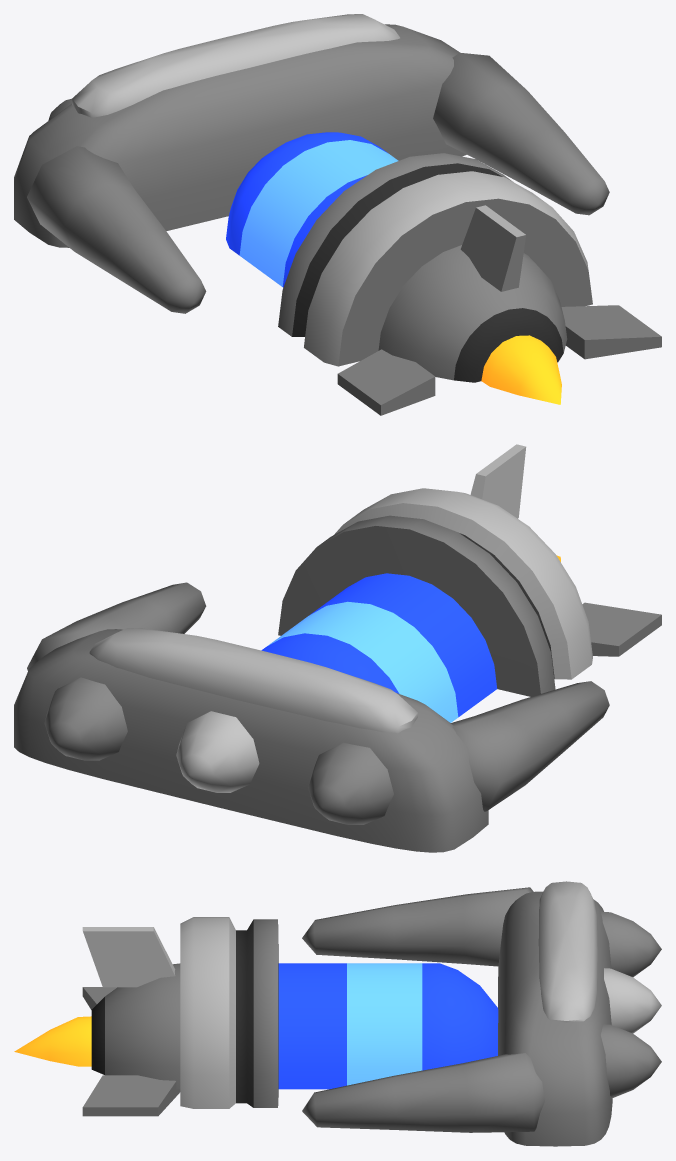
Rendered from shot_buster.glb.
3 renders of one model, top to bottom at view 1: azimuth 30°, elevation 25°; view 2: azimuth 150°, elevation 25°; view 3: azimuth 270°, elevation 25°, orthographic. The views are drawn at different scales.
Visible parts, largest first — view 1: br_tail, br_bar, br_leg, br_leg.001, br_core, br_bar_top, br_fin.001, br_fin, br_flame, br_fin_top; view 2: br_bar, br_tail, br_core, br_bar_top, br_leg, br_prong, br_prong.002, br_prong.001, br_leg.001, br_fin.001, br_fin_top; view 3: br_tail, br_core, br_bar, br_leg.001, br_leg, br_bar_top, br_fin_top, br_fin, br_prong.002, br_prong, br_flame, br_prong.001 (+1 smaller).
Boxes of the visible parts, <box> form: br_tail: <box>278,153,592,382</box>; br_bar: <box>14,24,466,247</box>; br_leg: <box>27,146,206,313</box>; br_leg.001: <box>433,52,609,215</box>; br_core: <box>226,132,398,287</box>; br_bar_top: <box>72,14,399,117</box>; br_fin.001: <box>337,349,435,415</box>; br_fin: <box>561,305,661,359</box>; br_flame: <box>481,335,561,404</box>; br_fin_top: <box>460,205,526,291</box>; br_bar: <box>14,629,488,852</box>; br_tail: <box>278,488,592,696</box>; br_core: <box>261,573,497,722</box>; br_bar_top: <box>89,628,417,733</box>; br_leg: <box>451,681,609,811</box>; br_prong: <box>308,742,393,824</box>; br_prong.002: <box>44,677,127,760</box>; br_prong.001: <box>176,711,259,792</box>; br_leg.001: <box>27,582,206,670</box>; br_fin.001: <box>582,602,661,656</box>; br_fin_top: <box>470,444,526,518</box>; br_tail: <box>91,917,278,1108</box>; br_core: <box>278,963,498,1089</box>; br_bar: <box>498,891,612,1146</box>; br_leg.001: <box>302,1053,544,1132</box>; br_leg: <box>302,887,533,966</box>; br_bar_top: <box>538,881,597,1022</box>; br_fin_top: <box>82,927,175,987</box>; br_fin: <box>82,1075,180,1116</box>; br_prong.002: <box>601,1024,661,1098</box>; br_prong: <box>601,911,661,977</box>; br_flame: <box>14,1016,91,1066</box>; br_prong.001: <box>604,968,661,1033</box>.
Size of the model in its own units: 10.8 by 3.26 by 14.6.
